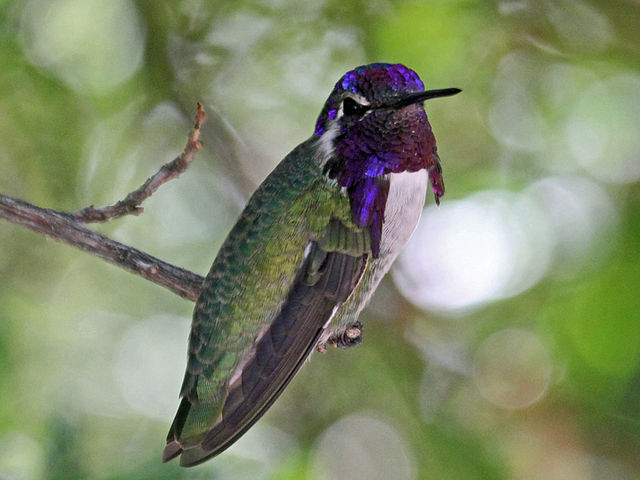calypte costae: (159, 62, 458, 465)
